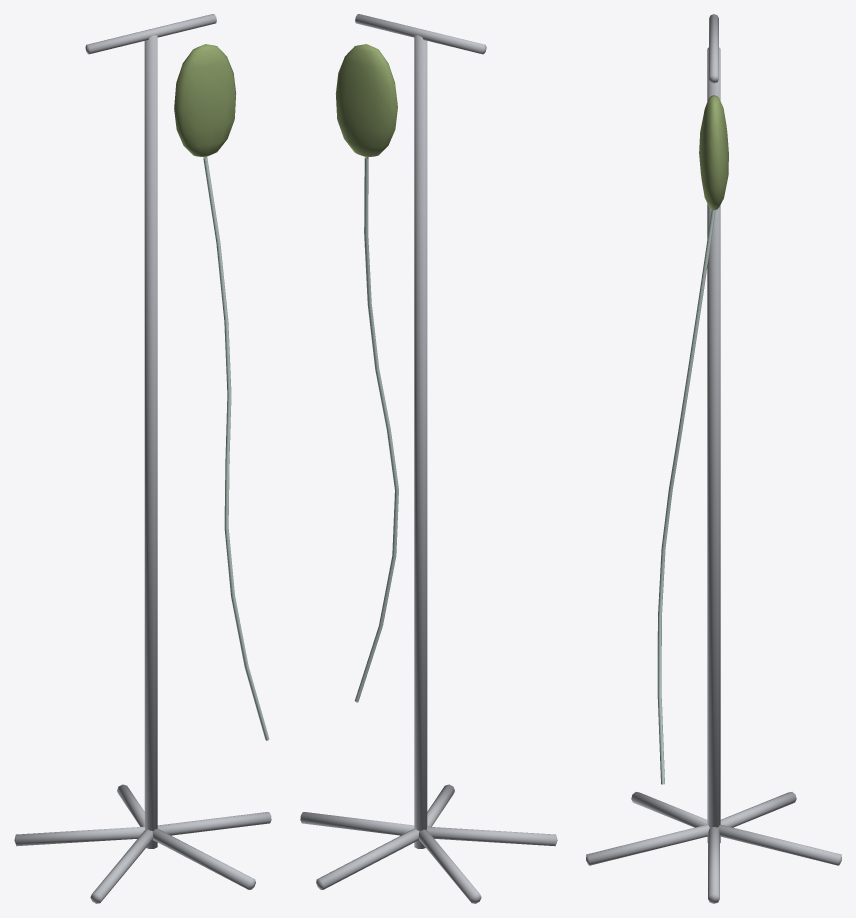
Rendered from Perfusion.glb.
3 renders of one model, left to right at view 1: azimuth 30°, elevation 25°; view 2: azimuth 150°, elevation 25°; view 3: azimuth 270°, elevation 25°, orthographic. The views are drawn at different scales.
Parts seen in each view (by area): view 1: Pied, Poche, Tuyau; view 2: Pied, Poche, Tuyau; view 3: Pied, Poche, Tuyau.
Boxes of the visible parts, left/top/right/bottom form: Pied: left=14, top=14, right=271, bottom=903; Poche: left=174, top=44, right=236, bottom=157; Tuyau: left=203, top=157, right=269, bottom=740; Pied: left=300, top=14, right=557, bottom=903; Poche: left=335, top=44, right=397, bottom=157; Tuyau: left=354, top=157, right=398, bottom=702; Pied: left=586, top=14, right=841, bottom=903; Poche: left=699, top=95, right=728, bottom=210; Tuyau: left=657, top=209, right=715, bottom=784.
Bounding box in the file's own units: 0.4814 × 1.74 × 0.5021.
